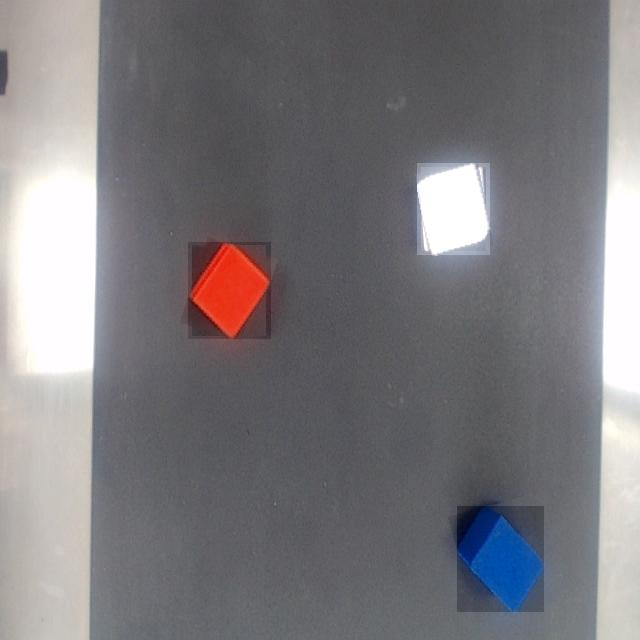Azul: (458, 507, 544, 612)
Blanco: (417, 164, 490, 255)
Rojo: (189, 242, 271, 339)
